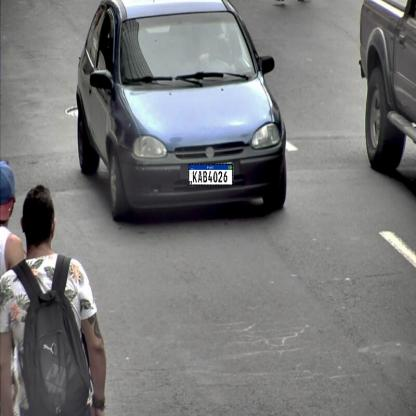PlacaM: (188, 164, 233, 186)
